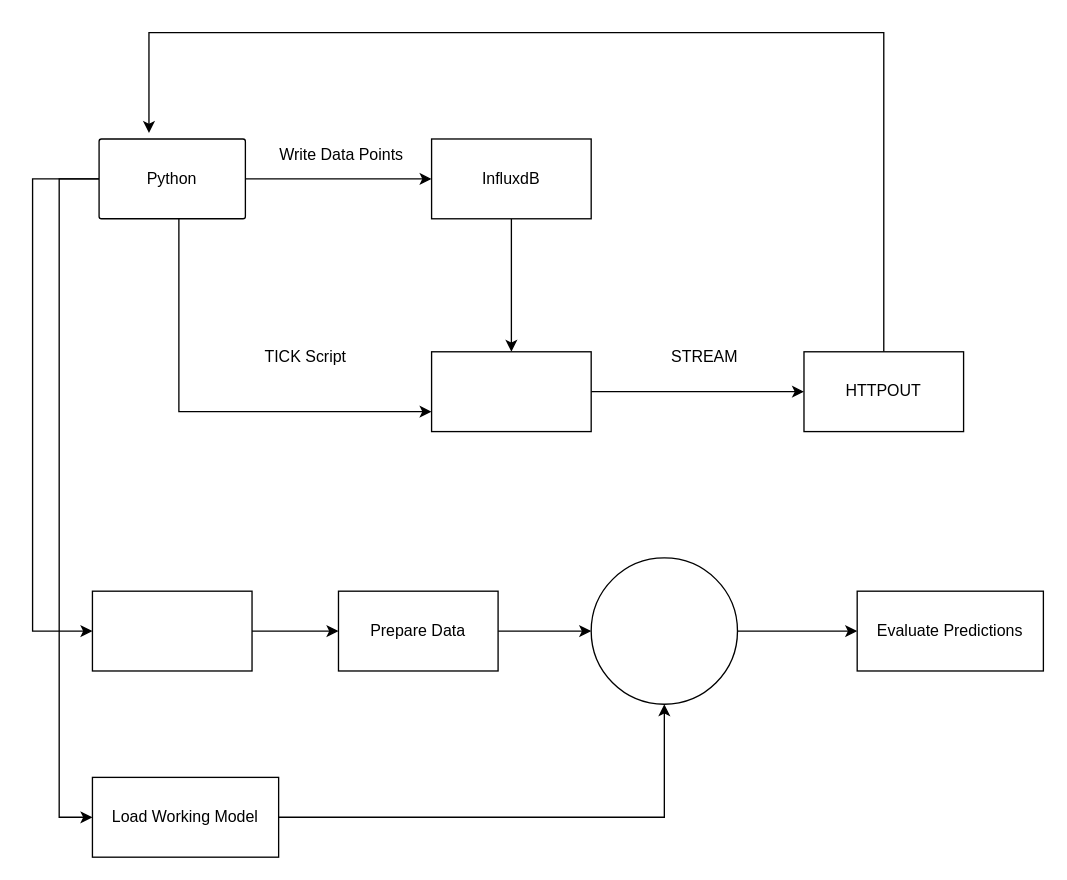
The diagram is 1067 pixels wide and 880 high, and some of its shapes have lost their labels. Here are the shapes that lost their labels. From the top down, the centre of each, then its label:
the point at 510,391: Kapacitor
the point at 171,630: Load Data
the point at 663,630: Predict Anomalies
